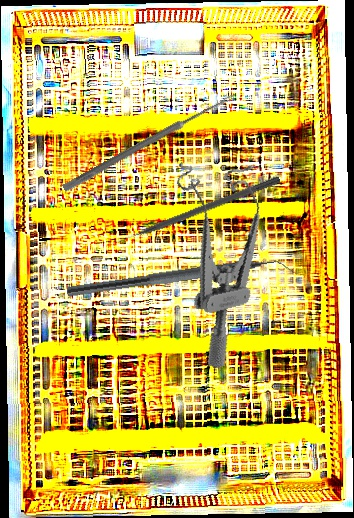Chopper: (66, 250, 299, 313)
Pusher: (113, 173, 281, 247)
Speculum: (159, 146, 297, 370)
Surgical Spoon: (61, 91, 236, 194)
